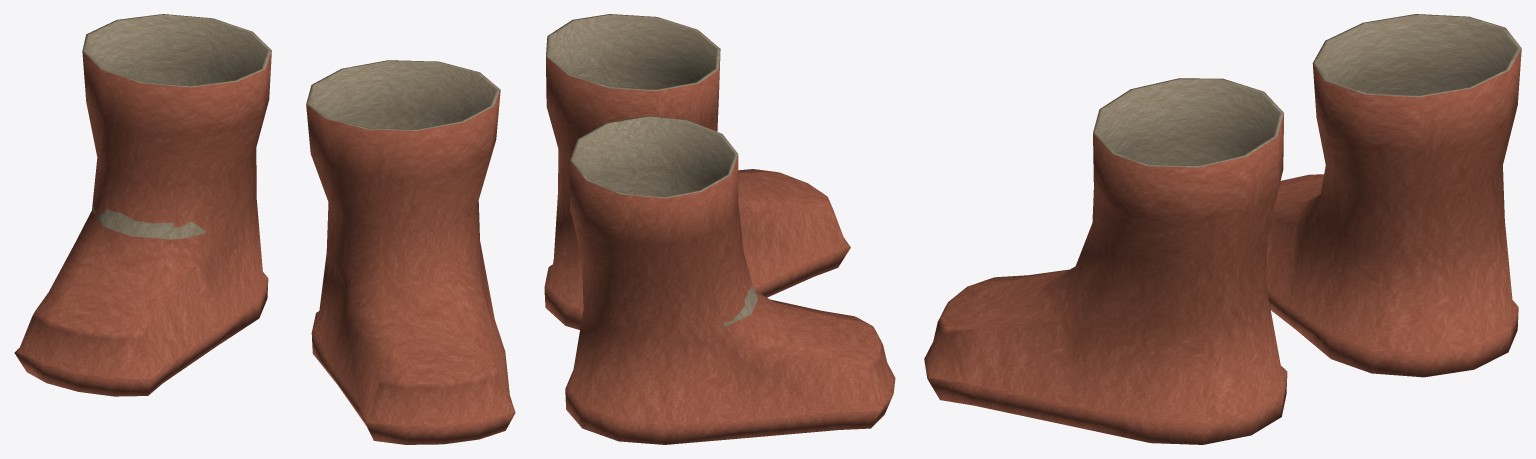
The model's file is boots.FBX.
3 views of the same model, side by side, from view 1: azimuth 30°, elevation 25°; view 2: azimuth 150°, elevation 25°; view 3: azimuth 270°, elevation 25° (orthographic). The views are drawn at different scales.
Visible parts, largest first — view 1: Cylinder001, Cylinder002; view 2: Cylinder001, Cylinder002; view 3: Cylinder002, Cylinder001.
Boxes of the visible parts, x1,y1,x2,y2 form: Cylinder001: [14, 14, 271, 396]; Cylinder002: [306, 60, 515, 444]; Cylinder001: [565, 115, 895, 444]; Cylinder002: [544, 14, 850, 329]; Cylinder002: [924, 78, 1287, 444]; Cylinder001: [1265, 14, 1521, 377].
Size of the model in its own units: 49.45 by 29.88 by 57.22.
